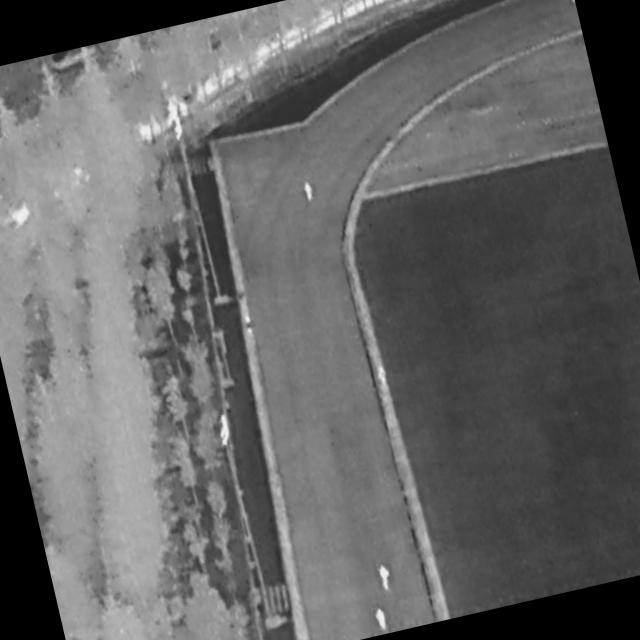person: (376, 560, 395, 596), (302, 180, 317, 206), (374, 607, 389, 633), (376, 364, 389, 389), (244, 312, 256, 337)
